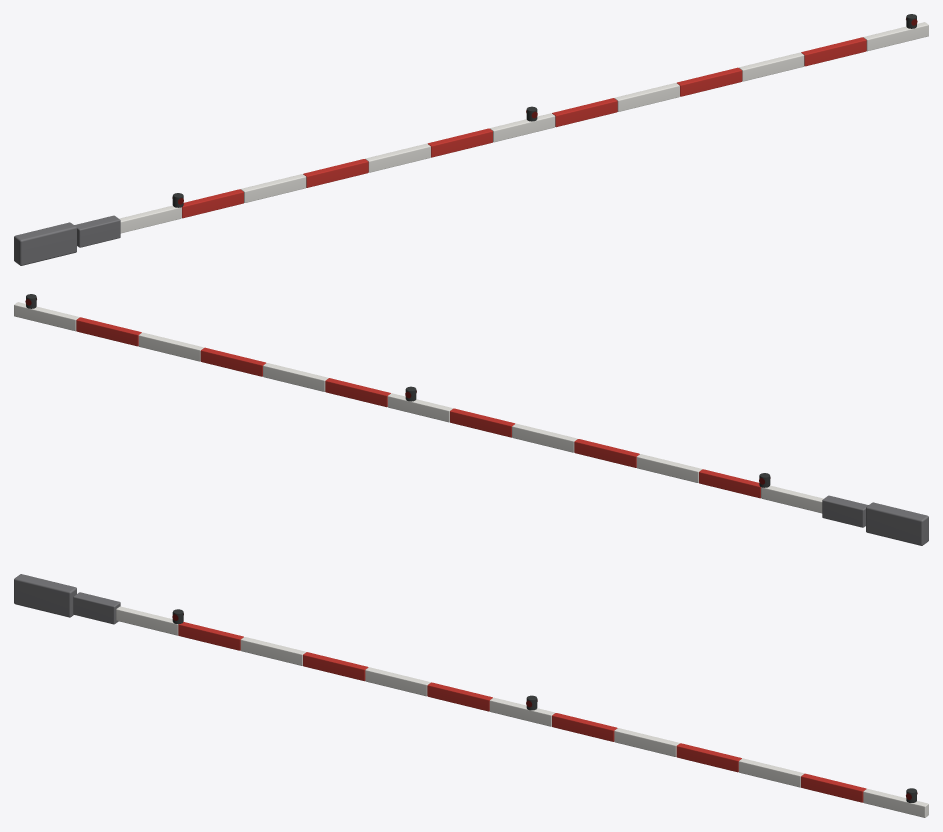
File: rail.crossing.boom_8.glb
The picture shows the model from 3 angles, top to bottom: view 1: azimuth 30°, elevation 25°; view 2: azimuth 150°, elevation 25°; view 3: azimuth 330°, elevation 25°; orthographic projection.
Visible parts, largest first — view 1: main__paint_eee, main__paint_c33, main__galv_777; view 2: main__paint_eee, main__paint_c33, main__galv_777; view 3: main__paint_eee, main__paint_c33, main__galv_777.
Part boxes in pixels (<box>): main__paint_eee: <box>119,22,928,233</box>; main__paint_c33: <box>181,37,866,218</box>; main__galv_777: <box>14,215,120,265</box>; main__paint_eee: <box>14,302,823,513</box>; main__paint_c33: <box>76,317,761,498</box>; main__galv_777: <box>822,495,928,545</box>; main__paint_eee: <box>116,606,928,817</box>; main__paint_c33: <box>178,622,866,802</box>; main__galv_777: <box>14,574,120,624</box>.
Size of the model in its own units: 8.75 by 0.275 by 0.12.
